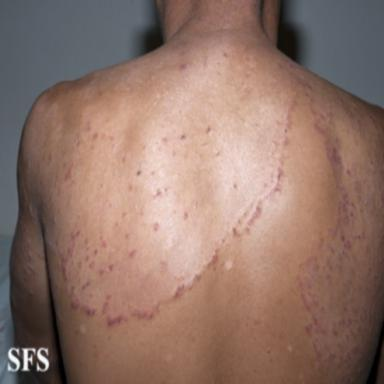Tinea-Corporis: (12, 3, 384, 384)
